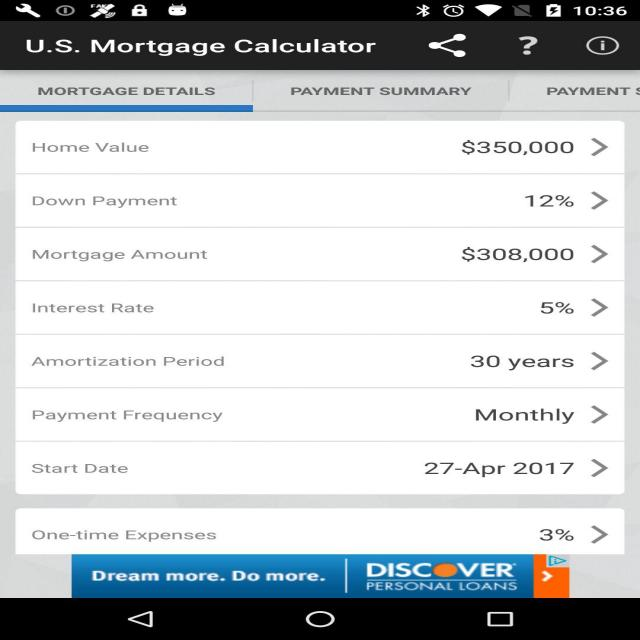icon: (581, 129, 626, 549), (400, 26, 622, 63)
text: (25, 133, 585, 547), (18, 75, 640, 106), (12, 31, 379, 58)
